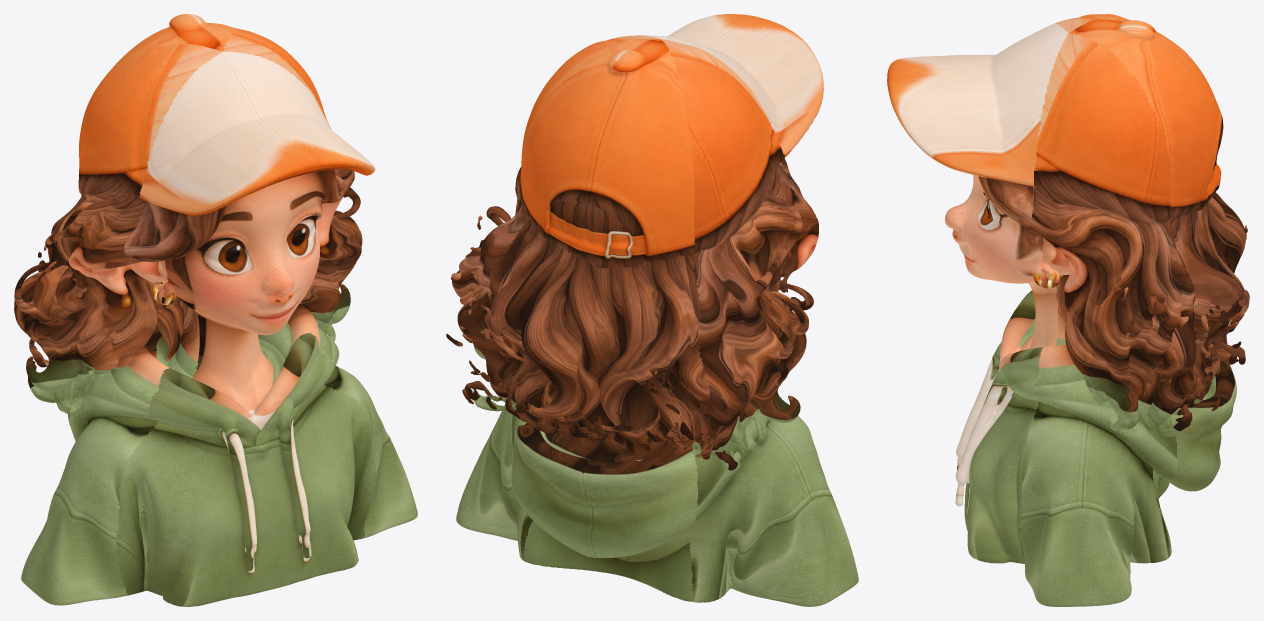
The model's file is orange-girl-reference-texture.glb.
3 renders of one model, left to right at view 1: azimuth 30°, elevation 25°; view 2: azimuth 150°, elevation 25°; view 3: azimuth 270°, elevation 25°, orthographic. The views are drawn at different scales.
Visible parts, largest first — view 1: front, right, left_mirrored, back; view 2: back, right, left_mirrored, front; view 3: left_mirrored, front, back.
Boxes of the visible parts, x1,y1,x2,y2 form: front: [115, 51, 376, 606]; right: [14, 43, 222, 605]; left_mirrored: [224, 29, 417, 537]; back: [24, 14, 238, 441]; back: [446, 38, 709, 601]; right: [661, 39, 858, 606]; left_mirrored: [450, 35, 659, 560]; front: [641, 14, 823, 199]; left_mirrored: [1021, 34, 1213, 606]; front: [887, 23, 1068, 566]; back: [1068, 17, 1249, 556].
Size of the model in its own units: 1.51 by 1.99 by 1.32.
Materials: 4 (4 with a texture image).
